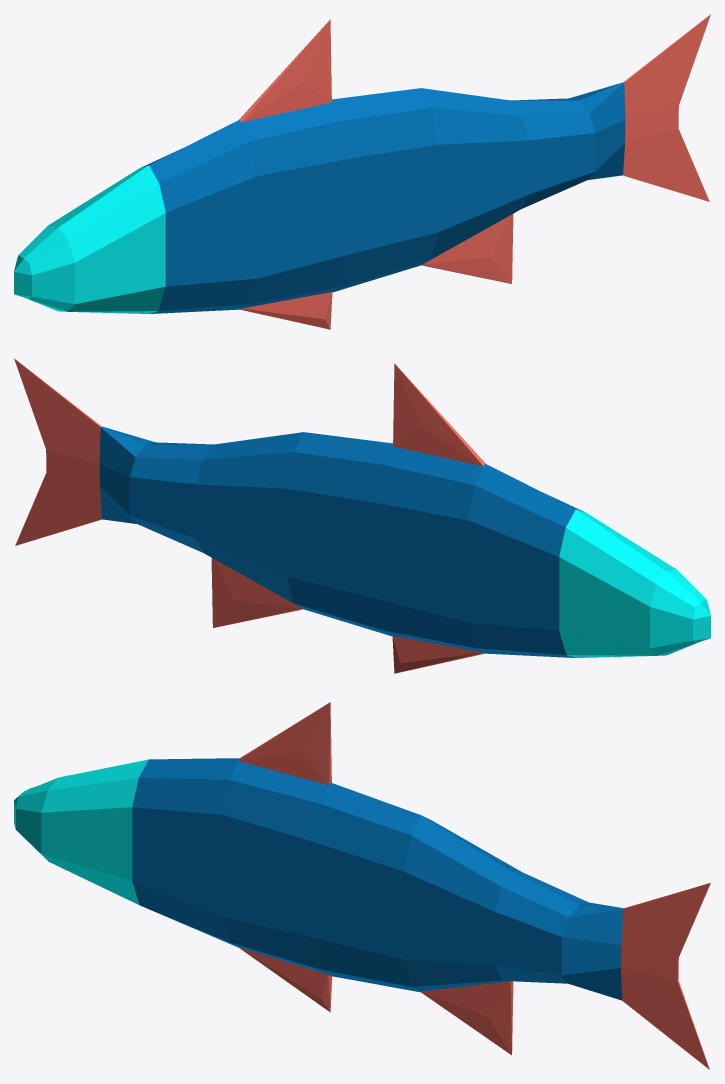
The model's file is Fish.fbx.
3 views of the same model, one above another, from view 1: azimuth 30°, elevation 25°; view 2: azimuth 150°, elevation 25°; view 3: azimuth 330°, elevation 25° (orthographic).
Visible parts, largest first — view 1: Plane; view 2: Plane; view 3: Plane.
Boxes of the visible parts, box(x1,y1,x2,y2) form: Plane: box(14, 14, 710, 329); Plane: box(14, 358, 710, 673); Plane: box(14, 702, 710, 1069).
Size of the model in its own units: 92.72 by 39.49 by 7.73.
